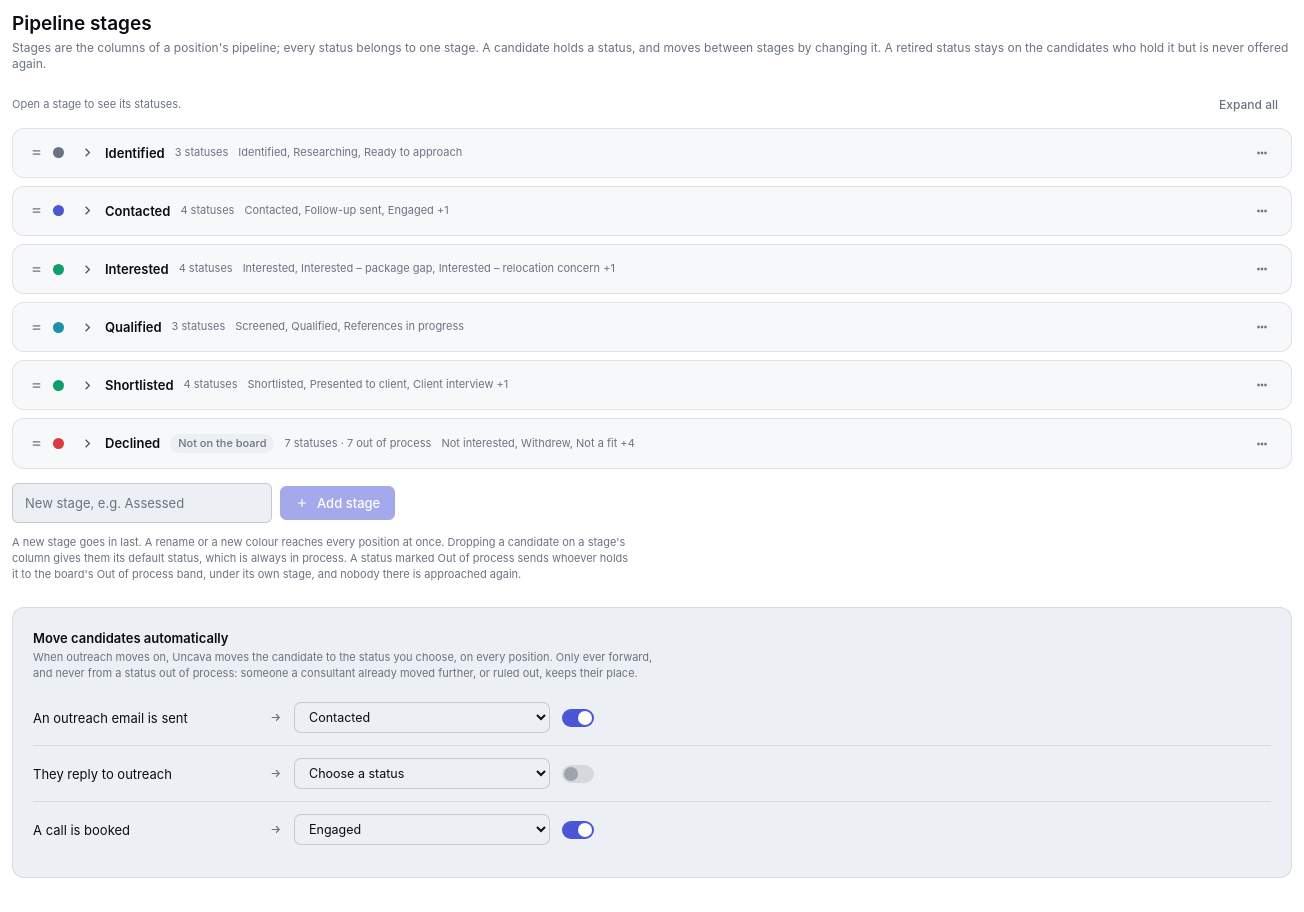
Test: PipelineStagesPage › chooses where an outreach event moves people, leaving on and off to the switch
Check: the switch named "They reply to outreach: move automatically" is disabled, box [562,765,594,783]
Select "Interested" in the dropdown named "They reply to outreach: move to" at x=422, y=774, box [294,758,550,789]
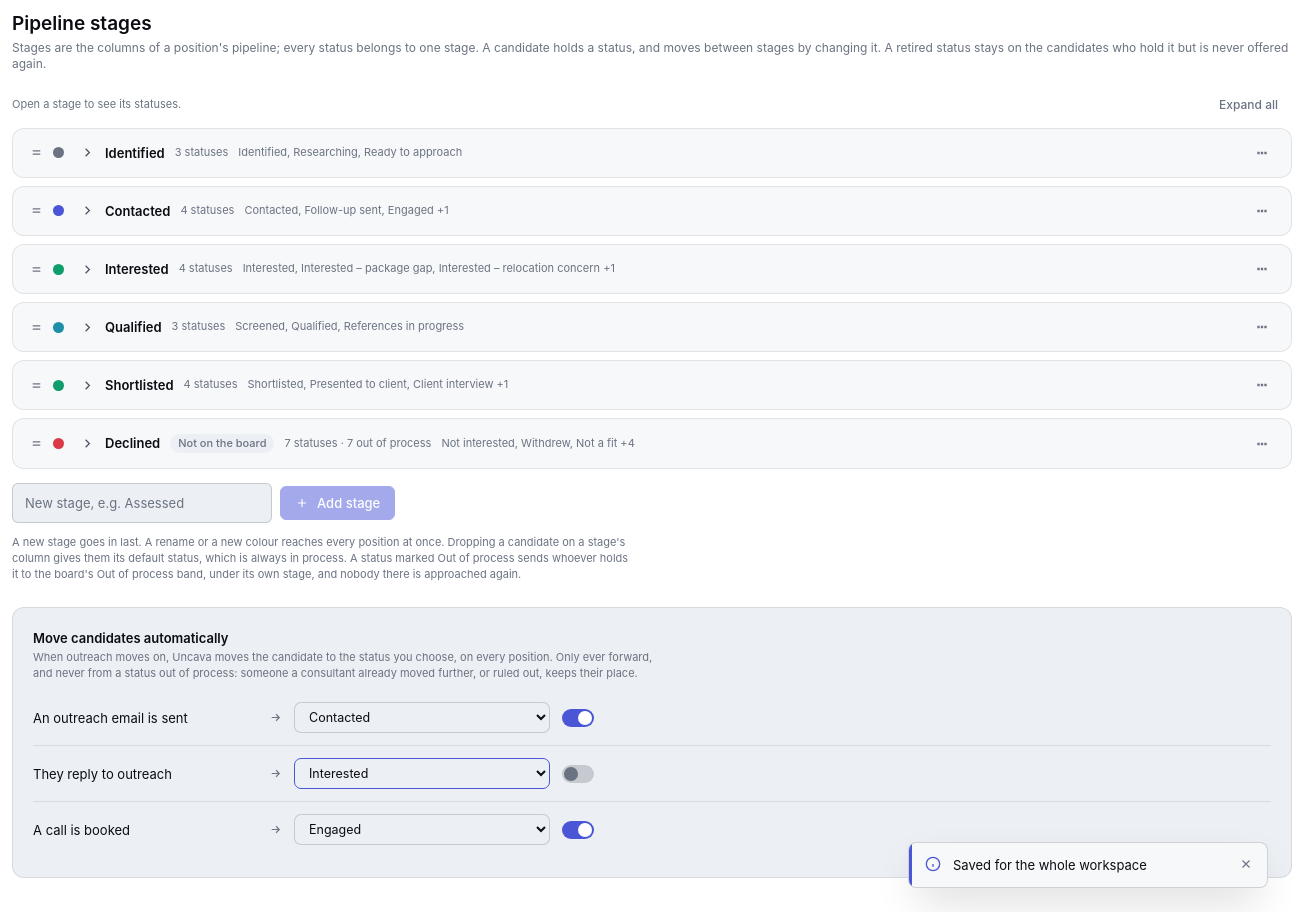
Check: the text "Saved for the whole workspace" is shown, box [953,857,1147,873]
Check: the switch named "They reply to outreach: move automatically" is enabled, box [562,765,594,783]
